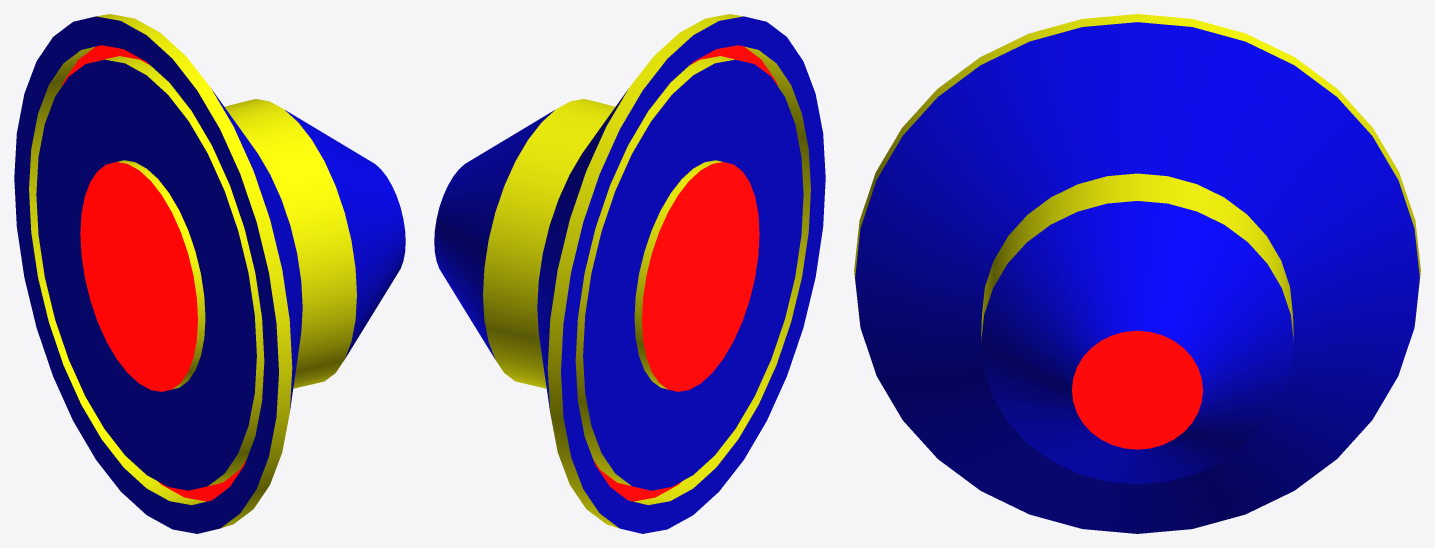
The model's file is Mallet Left.fbx.
3 renders of one model, left to right at view 1: azimuth 30°, elevation 25°; view 2: azimuth 150°, elevation 25°; view 3: azimuth 270°, elevation 25°, orthographic. The views are drawn at different scales.
Parts seen in each view (by area): view 1: Mallet Left; view 2: Mallet Left; view 3: Mallet Left.
Part boxes in pixels (box(x1,y1,x2,y2)): Mallet Left: box(14, 14, 405, 533); Mallet Left: box(434, 14, 825, 533); Mallet Left: box(854, 14, 1420, 533).
Bounding box in the file's own units: 103 × 200 × 200.
